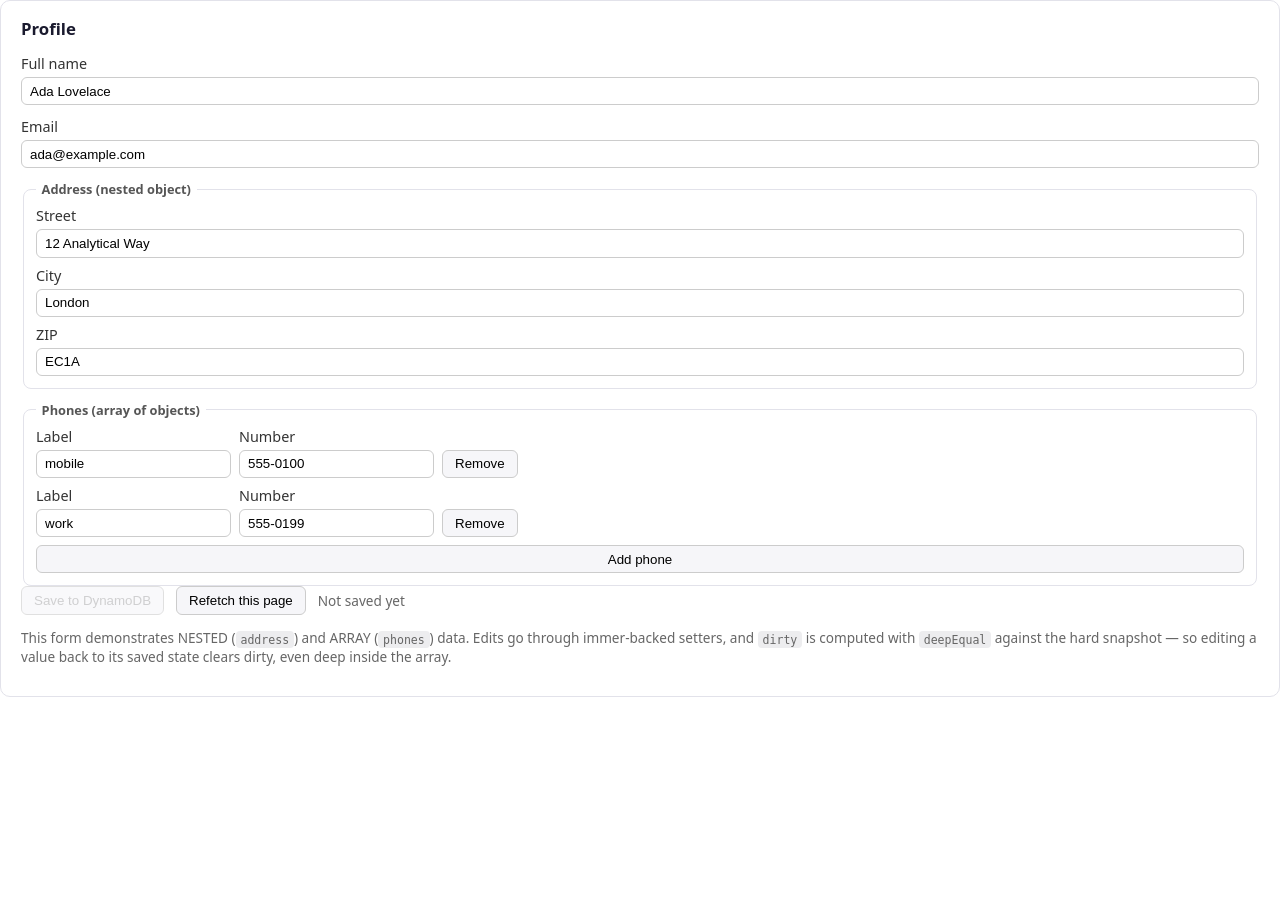
Test: <ProfilePage /> › Add phone appends a blank row
The width and height of the screenshot is (1280, 900).
Click the button "Add phone". click: [640, 559]
box: 36,545 -> 1244,574
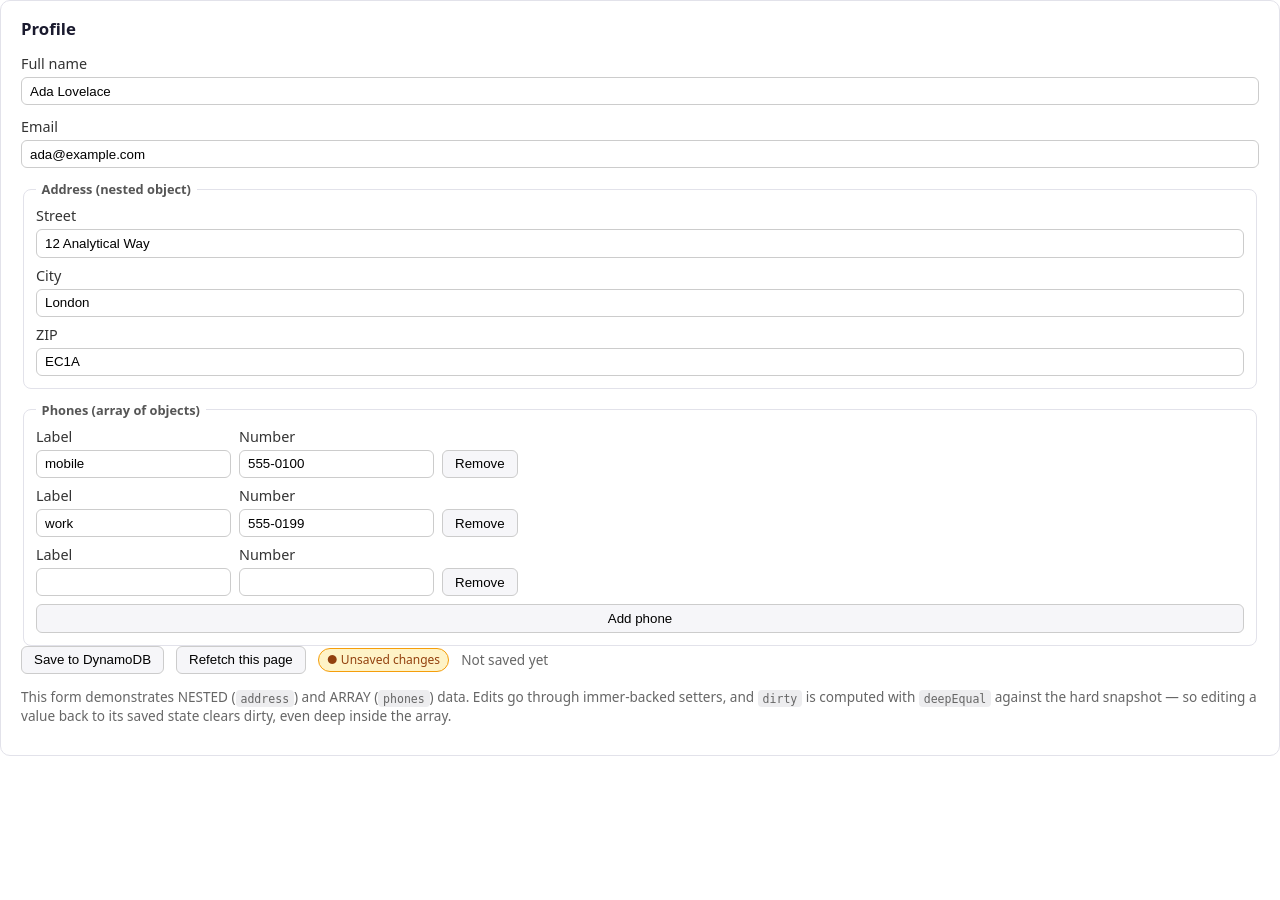
Check: the number of fields labelled "Label" is 3, box 36,450 -> 231,478; 36,509 -> 231,537; 36,568 -> 231,596
